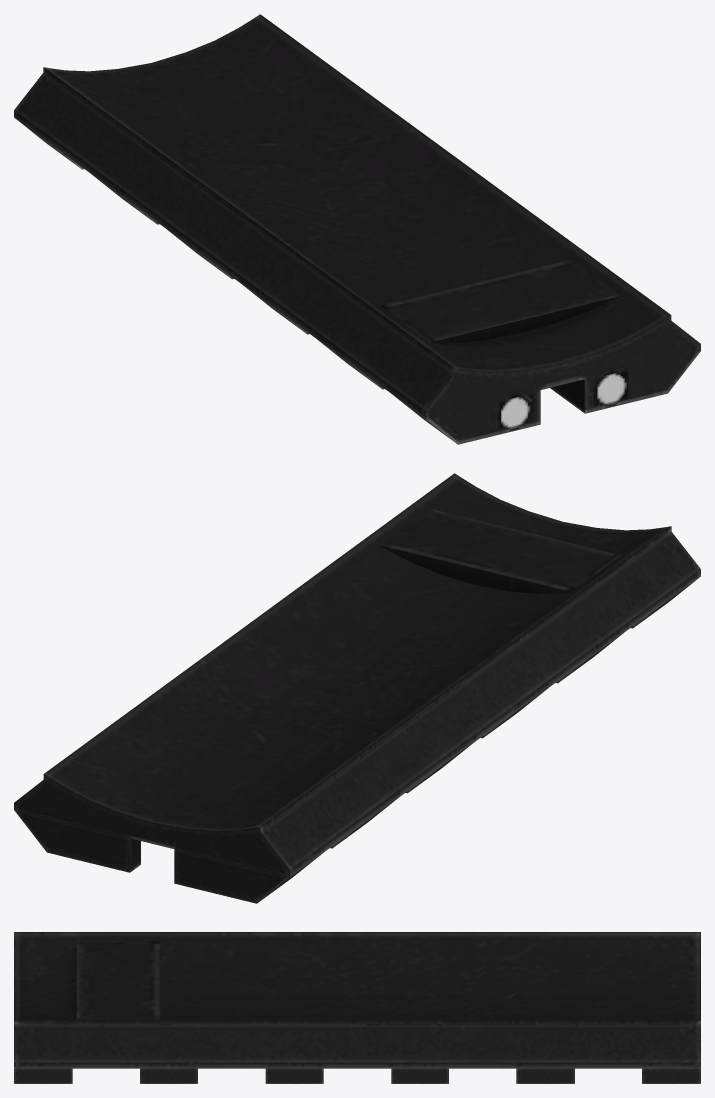
The picture shows the model from 3 angles, top to bottom: view 1: azimuth 30°, elevation 25°; view 2: azimuth 150°, elevation 25°; view 3: azimuth 270°, elevation 25°; orthographic projection. The views are drawn at different scales.
Visible parts, largest first — view 1: TW_56ea7293d2720b8d4b8b45ba_PZ_Import; view 2: TW_56ea7293d2720b8d4b8b45ba_PZ_Import; view 3: TW_56ea7293d2720b8d4b8b45ba_PZ_Import.
Part boxes in pixels (<box>): TW_56ea7293d2720b8d4b8b45ba_PZ_Import: <box>14,14,700,444</box>; TW_56ea7293d2720b8d4b8b45ba_PZ_Import: <box>14,473,700,903</box>; TW_56ea7293d2720b8d4b8b45ba_PZ_Import: <box>14,932,700,1083</box>.
Size of the model in its own units: 0.0122 by 0.0316 by 0.00329.
1 material, 1 textured.
